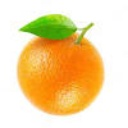orange: (18, 13, 108, 118)
